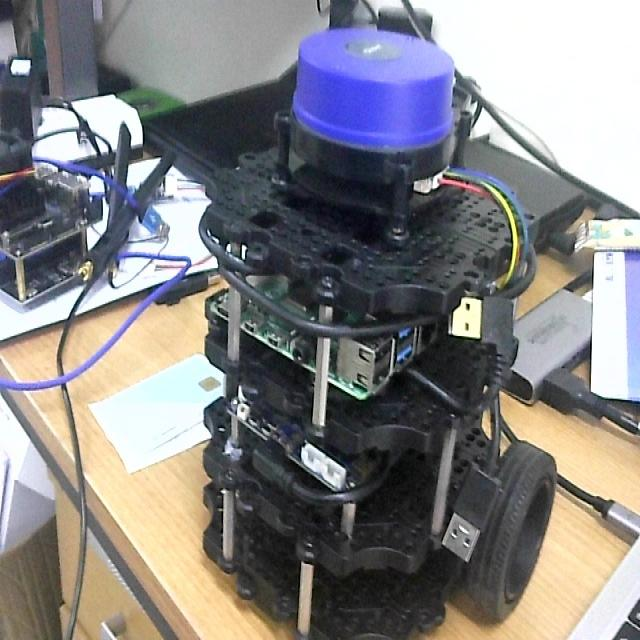turtle: (196, 20, 559, 640)
